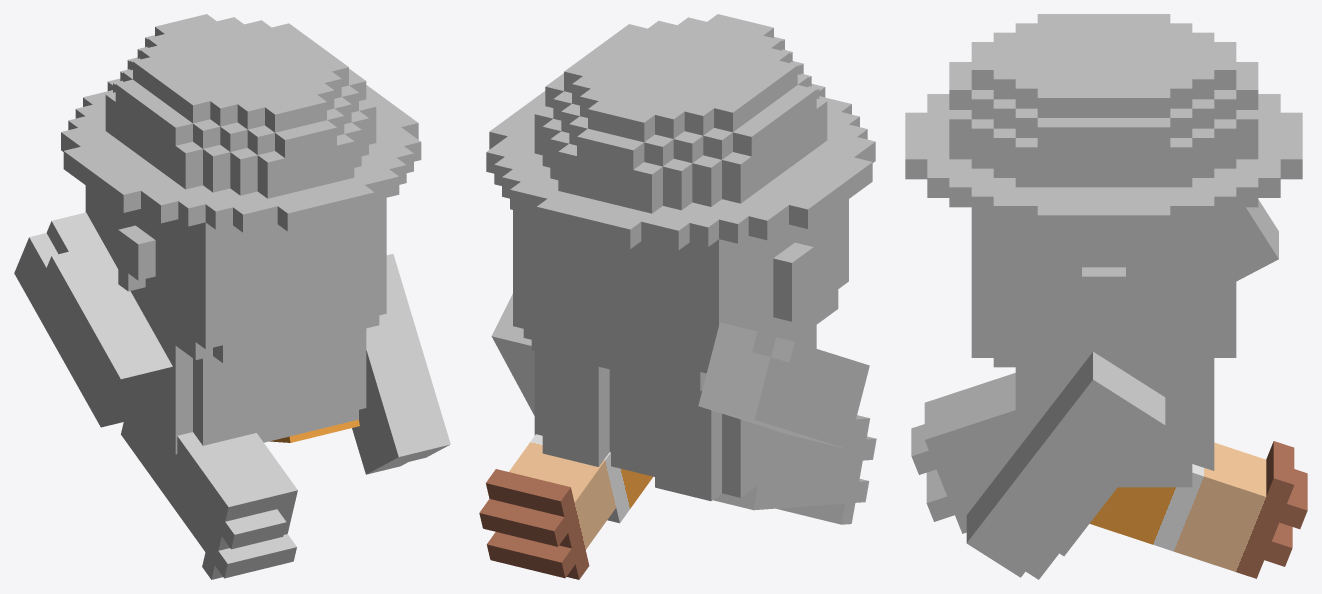
File: LuffySecondJump.dae
The picture shows the model from 3 angles, left to right: view 1: azimuth 30°, elevation 25°; view 2: azimuth 150°, elevation 25°; view 3: azimuth 270°, elevation 25°; orthographic projection. The views are drawn at different scales.
Parts seen in each view (by area): view 1: Hat-local, Head-local, LeftArm-local, Torso-local, LeftLeg-local, RightARM-local, RightLeg-local; view 2: Hat-local, Head-local, Torso-local, RightLeg-local, LeftArm-local, LeftLeg-local, RightARM-local; view 3: Hat-local, Head-local, RightARM-local, RightLeg-local, LeftLeg-local, Torso-local, LeftArm-local.
Part boxes in pixels (bbox=[...]): Hat-local: bbox=[61, 14, 421, 232]; Head-local: bbox=[85, 185, 386, 363]; LeftArm-local: bbox=[14, 212, 172, 427]; Torso-local: bbox=[130, 328, 366, 454]; LeftLeg-local: bbox=[121, 420, 297, 579]; RightARM-local: bbox=[352, 254, 450, 474]; RightLeg-local: bbox=[269, 419, 359, 442]; Hat-local: bbox=[486, 14, 875, 250]; Head-local: bbox=[513, 199, 848, 391]; Torso-local: bbox=[534, 325, 816, 500]; RightLeg-local: bbox=[479, 434, 652, 579]; LeftArm-local: bbox=[698, 322, 869, 448]; LeftLeg-local: bbox=[713, 415, 876, 524]; RightARM-local: bbox=[491, 294, 534, 415]; Hat-local: bbox=[905, 14, 1302, 235]; Head-local: bbox=[971, 216, 1236, 367]; RightARM-local: bbox=[966, 352, 1165, 579]; RightLeg-local: bbox=[1089, 441, 1307, 578]; LeftLeg-local: bbox=[911, 373, 1015, 533]; Torso-local: bbox=[1015, 367, 1214, 487]; LeftArm-local: bbox=[1236, 199, 1278, 281].
Bounding box in the file's own units: 17 × 24.56 × 18.23.
